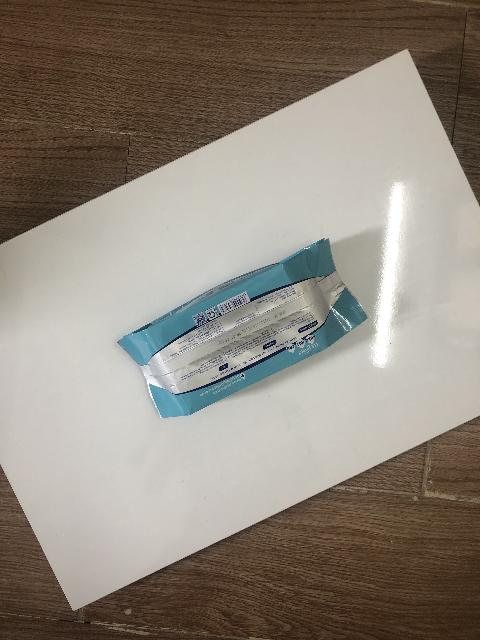Let-green_alcohol_wipes: (117, 238, 367, 419)
